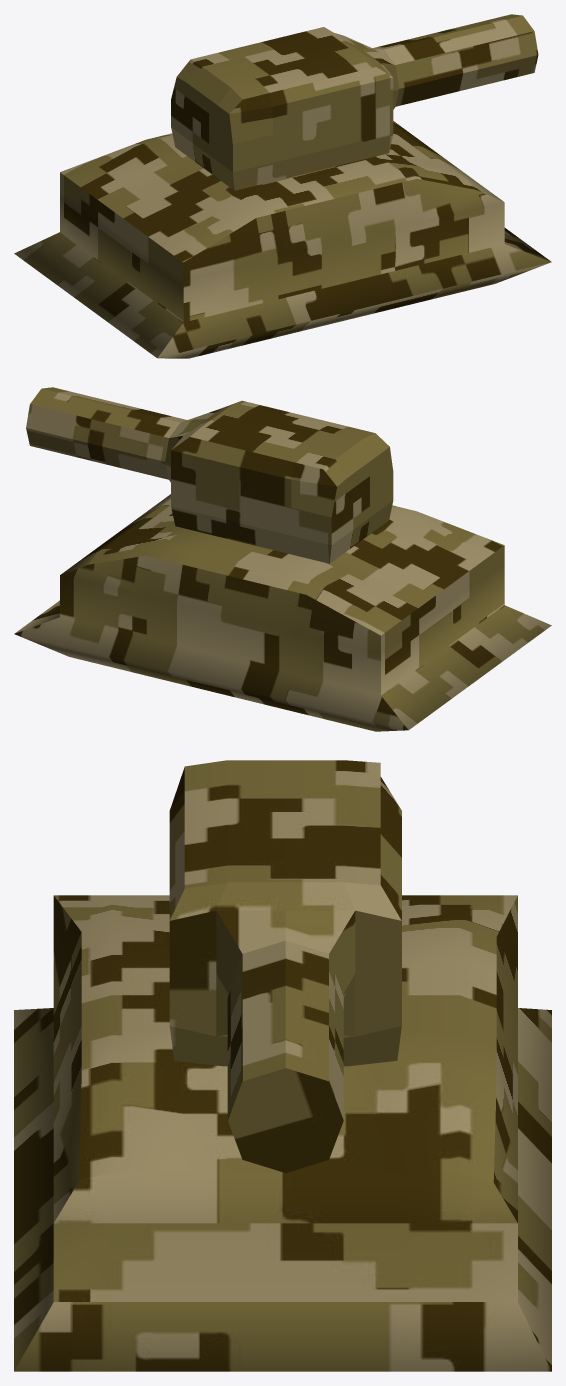
The model's file is tank.FBX.
3 views of the same model, one above another, from view 1: azimuth 30°, elevation 25°; view 2: azimuth 150°, elevation 25°; view 3: azimuth 270°, elevation 25° (orthographic). The views are drawn at different scales.
Parts seen in each view (by area): view 1: Box073; view 2: Box073; view 3: Box073.
Part boxes in pixels (bbox=[...]): Box073: bbox=[14, 14, 551, 358]; Box073: bbox=[14, 387, 551, 731]; Box073: bbox=[14, 760, 551, 1371].
Bounding box in the file's own units: 8.06 × 3.78 × 4.56.
